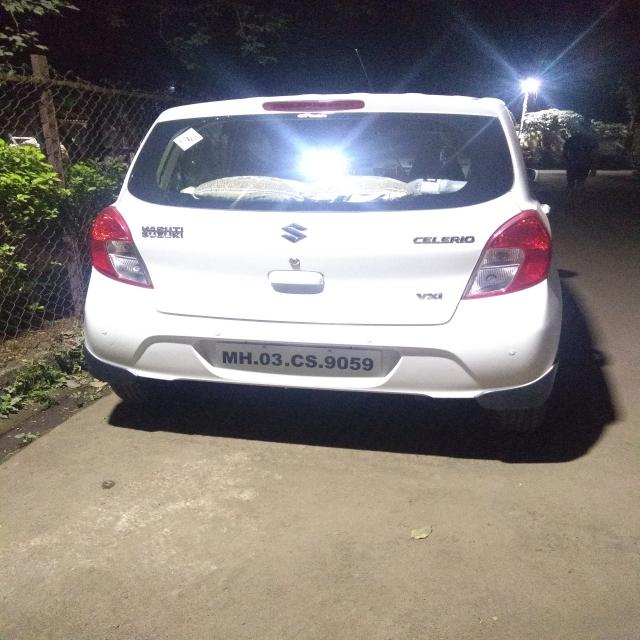Number-Plate: (223, 348, 380, 375)
